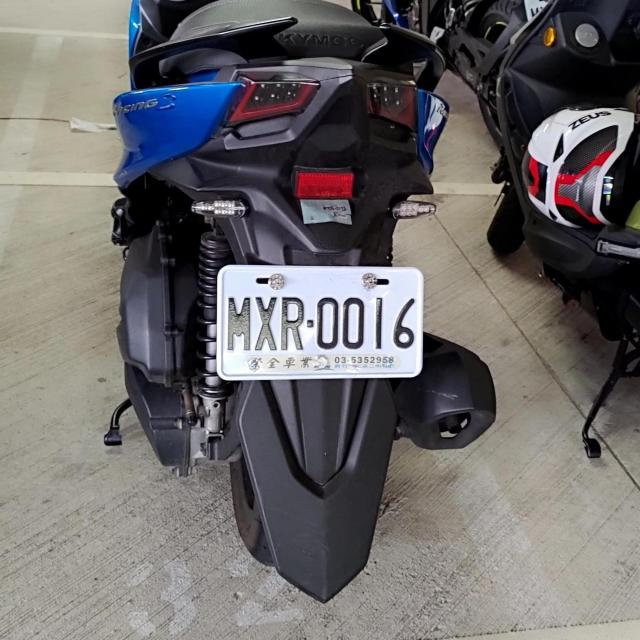W: (216, 261, 425, 381)
